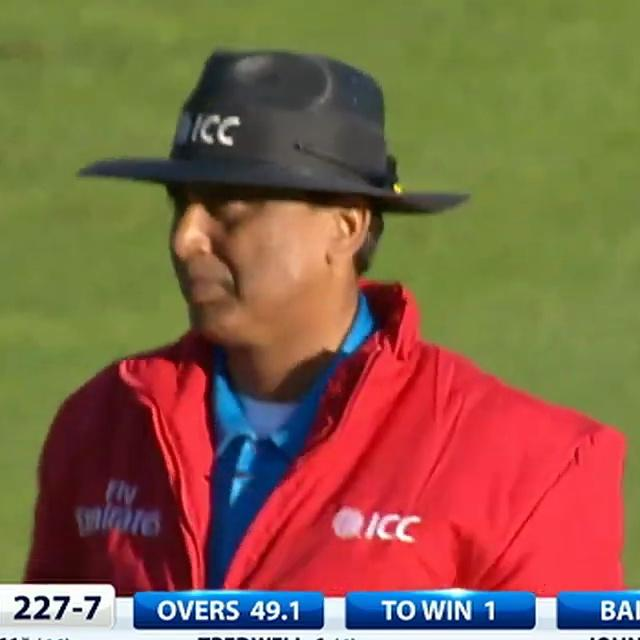umpire: (0, 9, 640, 594)
